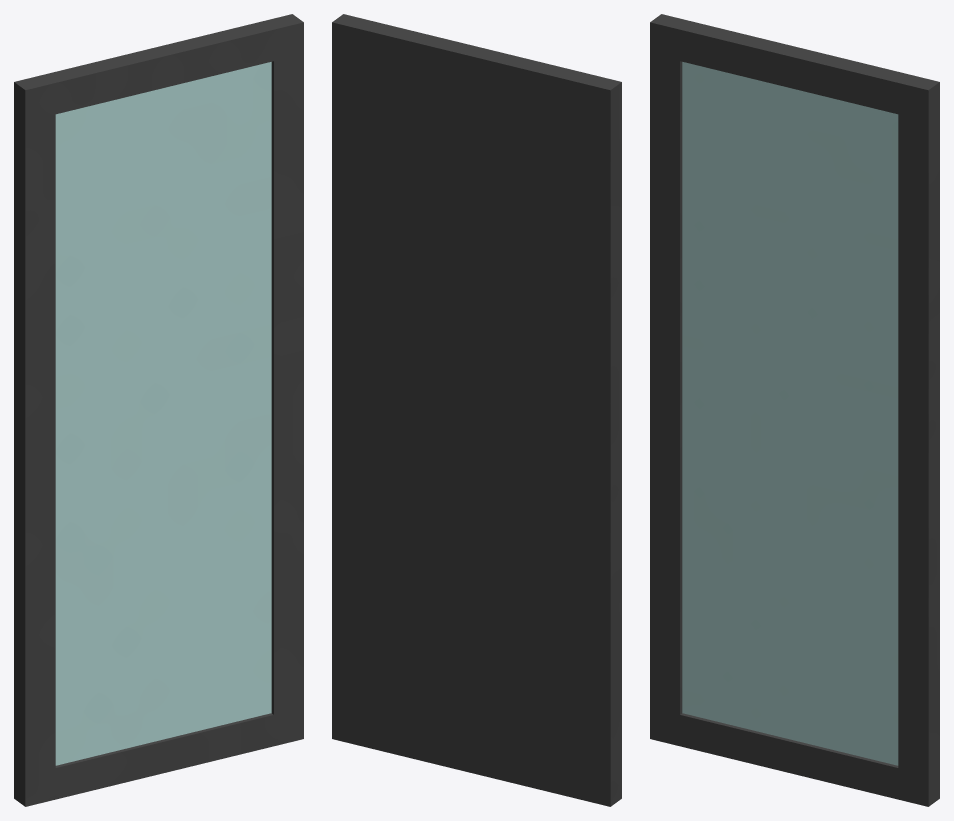
The model's file is Mirror_01_03.fbx.
3 views of the same model, side by side, from view 1: azimuth 30°, elevation 25°; view 2: azimuth 150°, elevation 25°; view 3: azimuth 330°, elevation 25° (orthographic).
Visible parts, largest first — view 1: Mirror_01_03; view 2: Mirror_01_03; view 3: Mirror_01_03.
Boxes of the visible parts, x1,y1,x2,y2 form: Mirror_01_03: (14,14,303,806); Mirror_01_03: (332,14,621,806); Mirror_01_03: (650,14,939,806).
Size of the model in its own units: 0.5642 by 1.39 by 0.0401.
